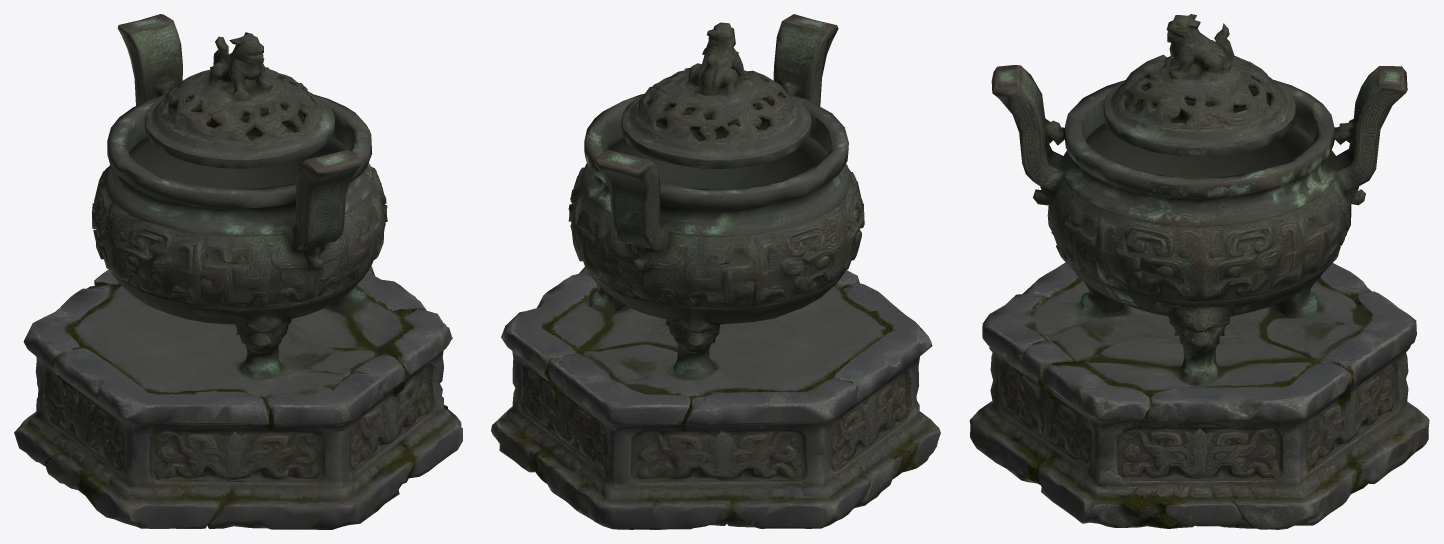
3 views of the same model, side by side, from view 1: azimuth 30°, elevation 25°; view 2: azimuth 150°, elevation 25°; view 3: azimuth 270°, elevation 25° (orthographic). The views are drawn at different scales.
Visible parts, largest first — view 1: tripo_node_dc07f429-b688-48e1-a0de-b5ace21f7745; view 2: tripo_node_dc07f429-b688-48e1-a0de-b5ace21f7745; view 3: tripo_node_dc07f429-b688-48e1-a0de-b5ace21f7745.
Boxes of the visible parts, x1=… form: tripo_node_dc07f429-b688-48e1-a0de-b5ace21f7745: x1=14, y1=14, x2=462, y2=529; tripo_node_dc07f429-b688-48e1-a0de-b5ace21f7745: x1=491, y1=14, x2=940, y2=529; tripo_node_dc07f429-b688-48e1-a0de-b5ace21f7745: x1=969, y1=14, x2=1429, y2=529.
Size of the model in its own units: 0.874 by 1 by 0.9687.
Materials: 1 (1 with a texture image).
